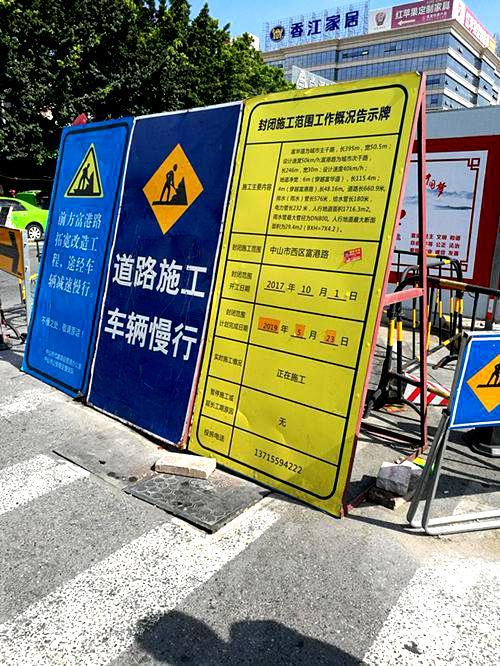sign: (16, 68, 434, 514)
